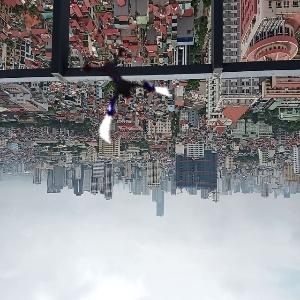drone: (77, 42, 174, 139)
